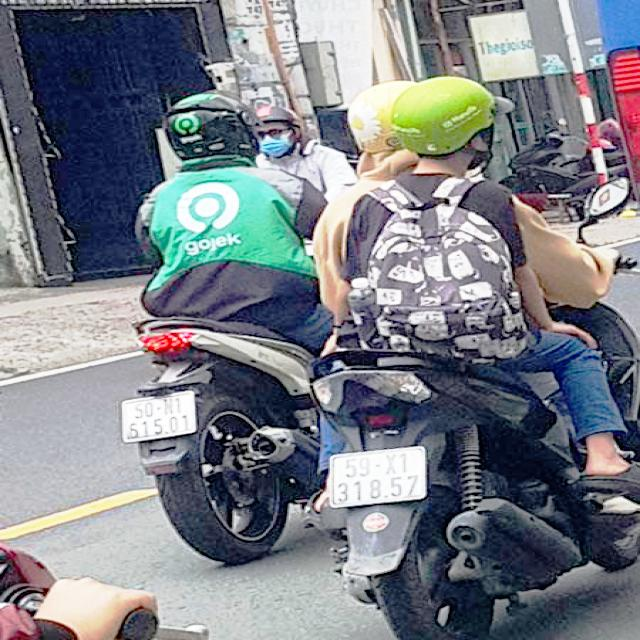license_plate: (328, 447, 427, 505), (121, 391, 198, 444)
